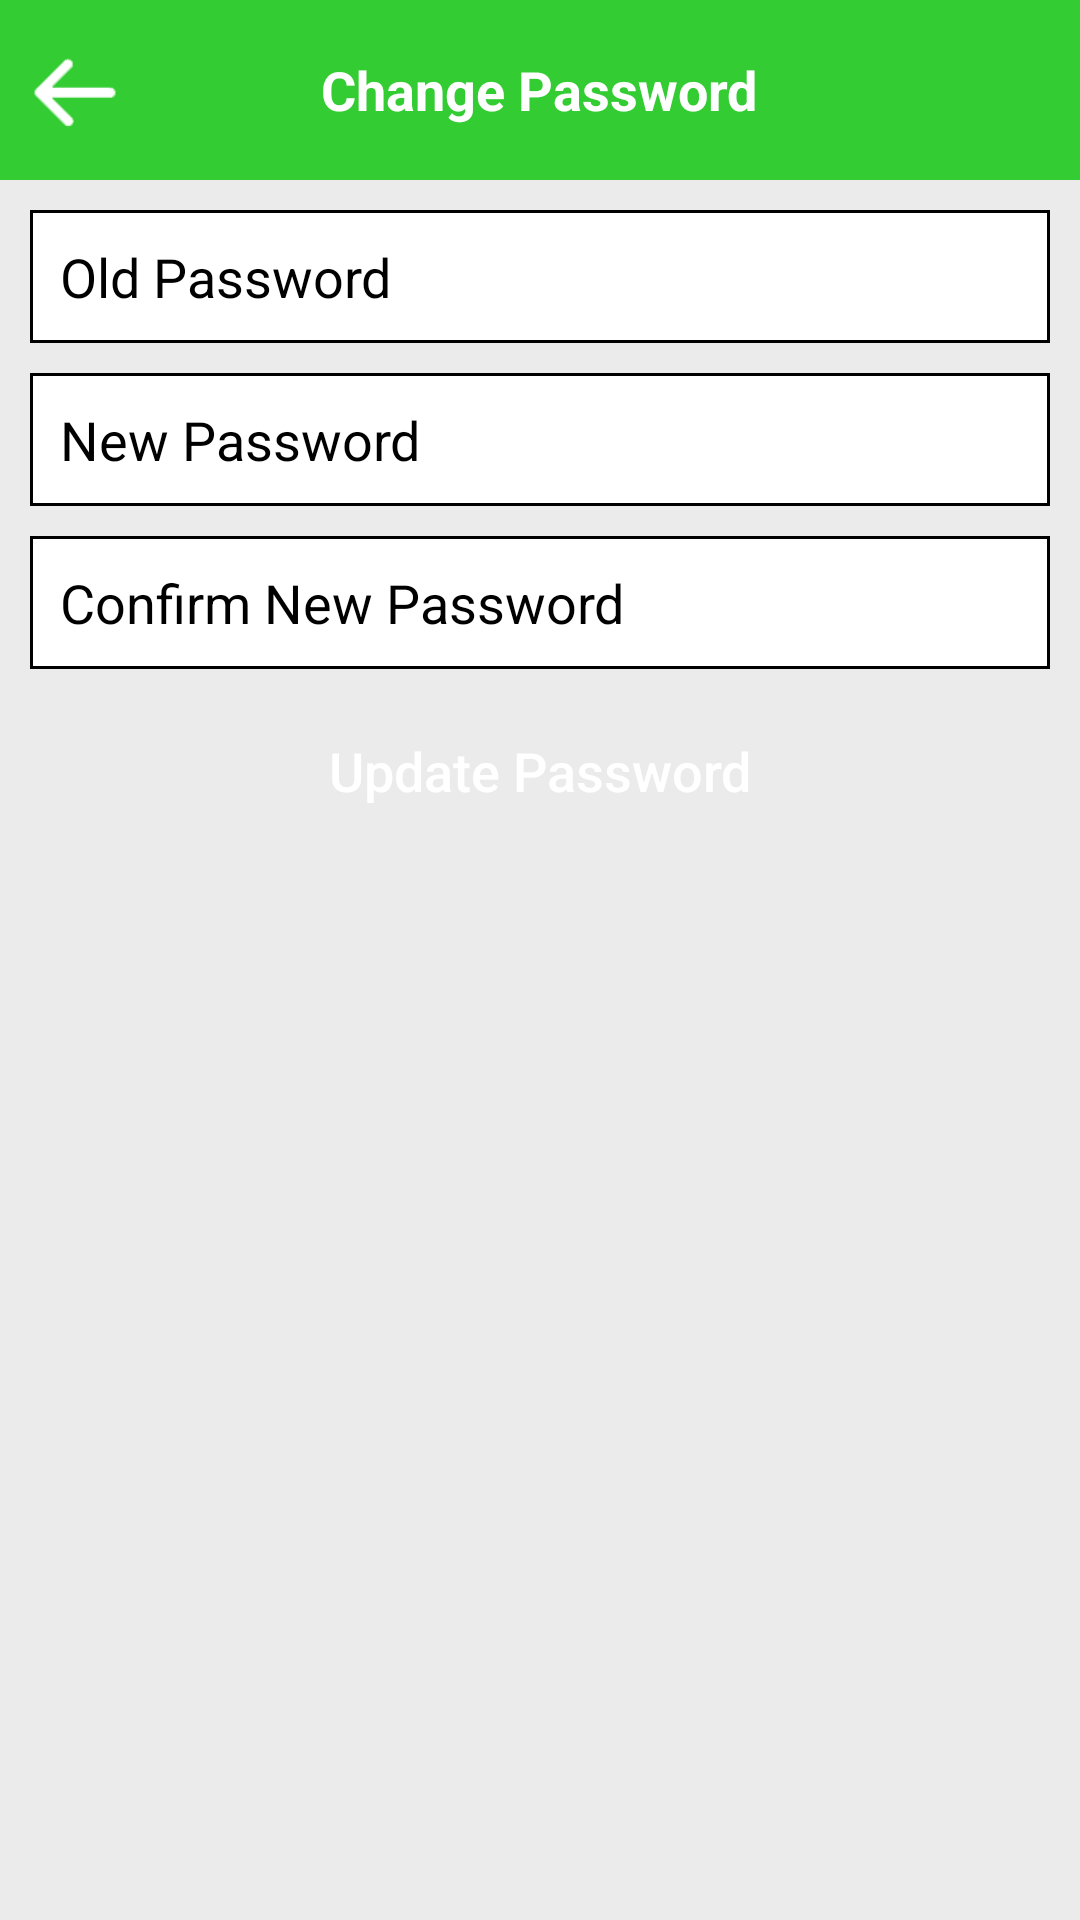

Named icons in this screenshot (1080x1920) and their bounding boxes, (x1, y1, x2, y2):
back arr: (34, 58, 116, 126)
